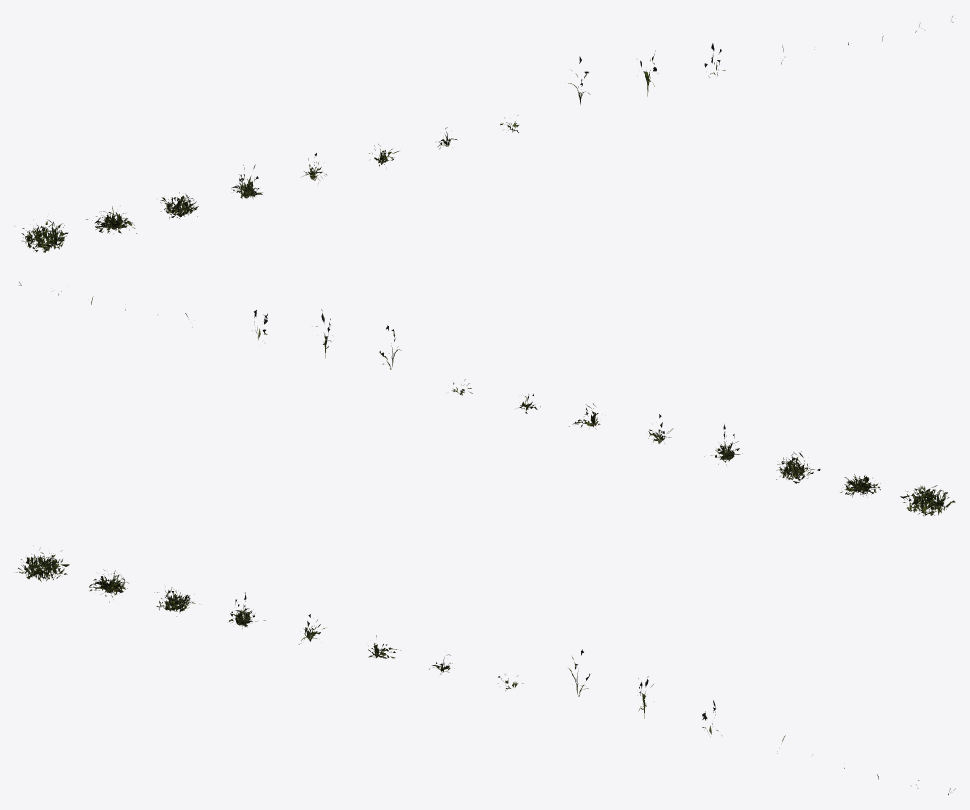
The model's file is grass_tuft.glb.
3 views of the same model, one above another, from view 1: azimuth 30°, elevation 25°; view 2: azimuth 150°, elevation 25°; view 3: azimuth 330°, elevation 25° (orthographic).
Parts seen in each view (by area): view 1: mesh; view 2: mesh; view 3: mesh.
Boxes of the visible parts, box(x1,y1,x2,y2) form: mesh: box(21, 16, 953, 252); mesh: box(19, 282, 955, 516); mesh: box(16, 548, 955, 794).
Size of the model in its own units: 5.71 by 0.3501 by 0.2929.
1 material, 1 textured.
